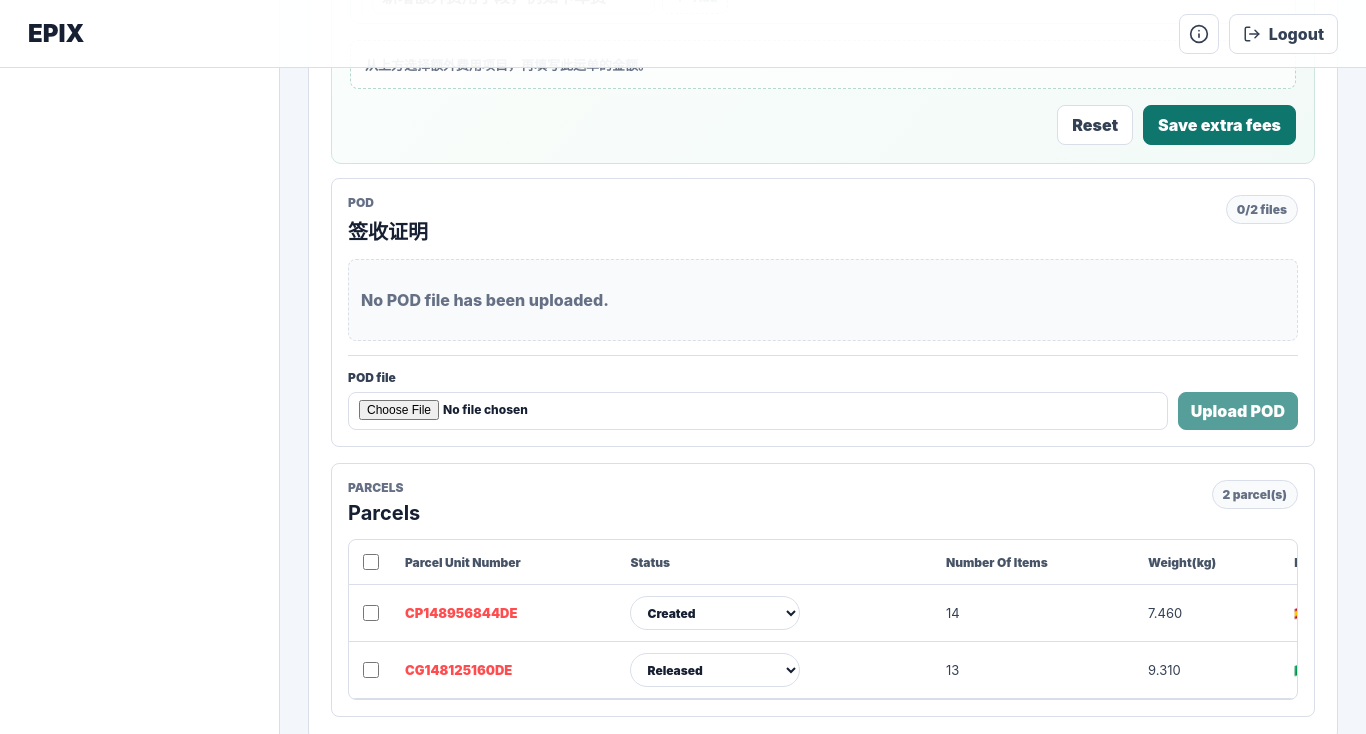
Scenario: WaybillDetailPage › lets admins bulk update selected parcels
(page scrolled)
Click the checkbox named "Select parcel CP148956844DE" at (371, 613), box [363,605,379,621]
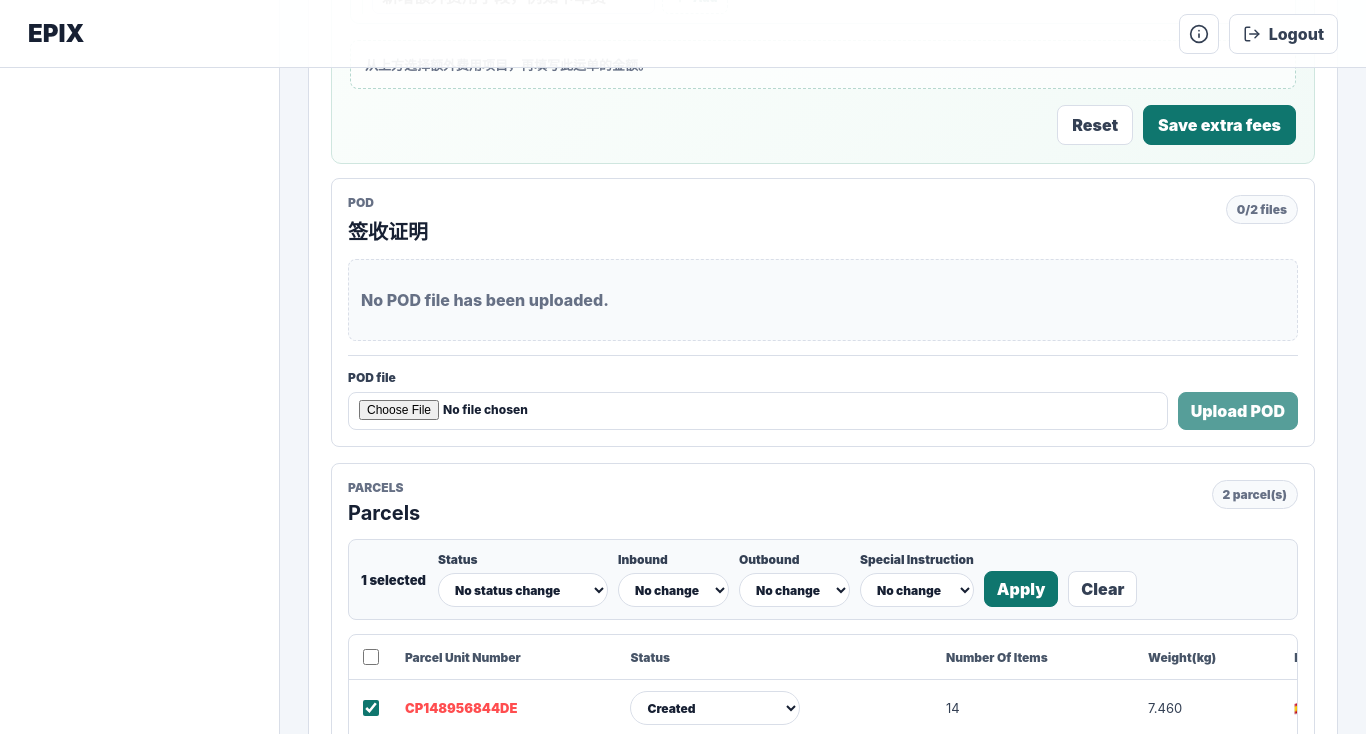
Select "Inbound" in the dropdown named "Bulk parcel status" at (523, 590), box [438,573,608,607]
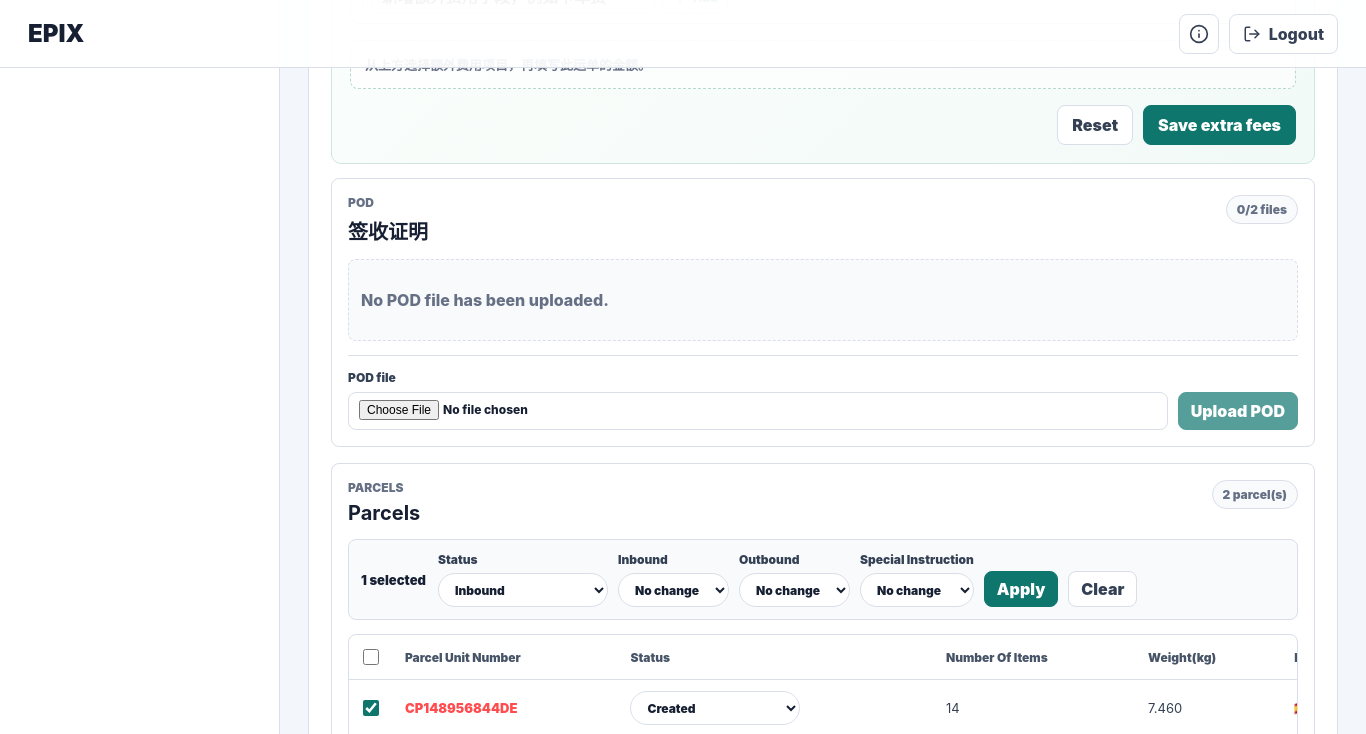
Select "Check" in the dropdown named "Bulk parcel Inbound" at (673, 590), box [618,573,729,607]
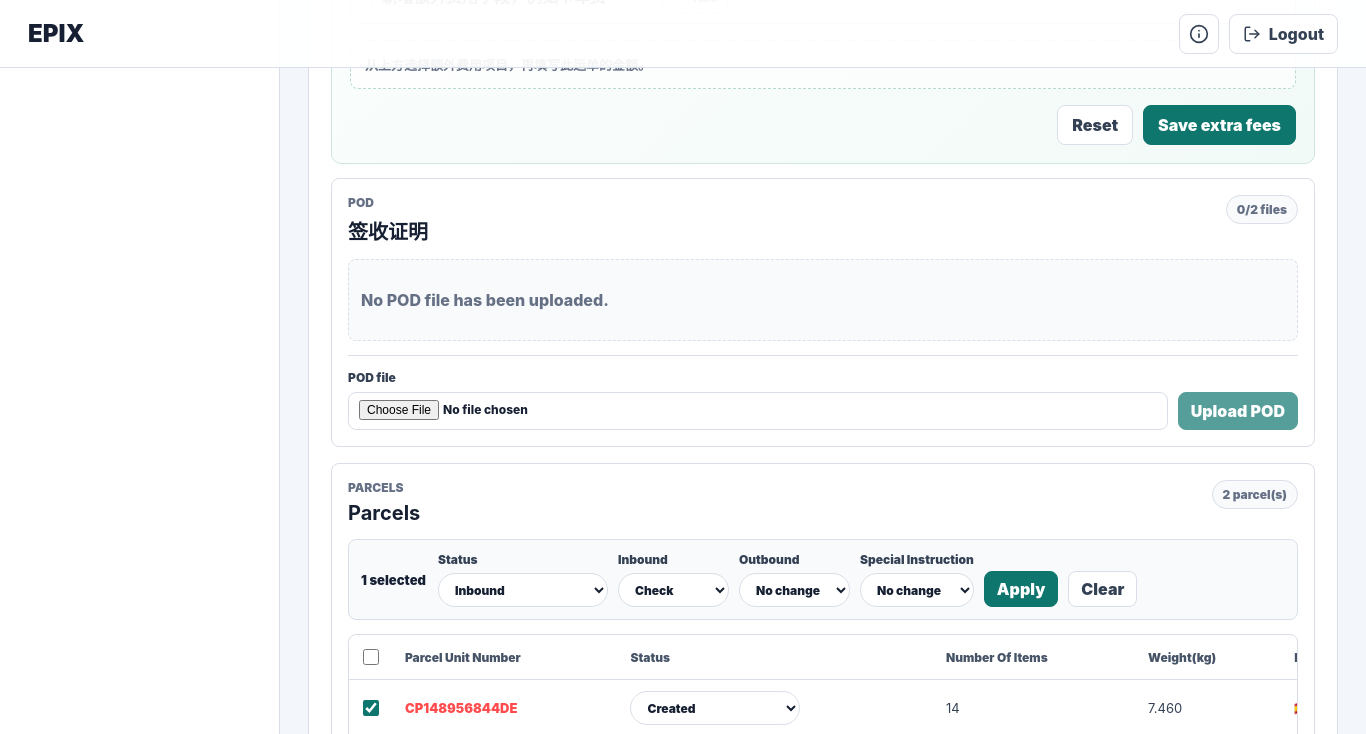
Select "Cross" in the dropdown named "Bulk parcel Outbound" at (794, 590), box [739,573,850,607]
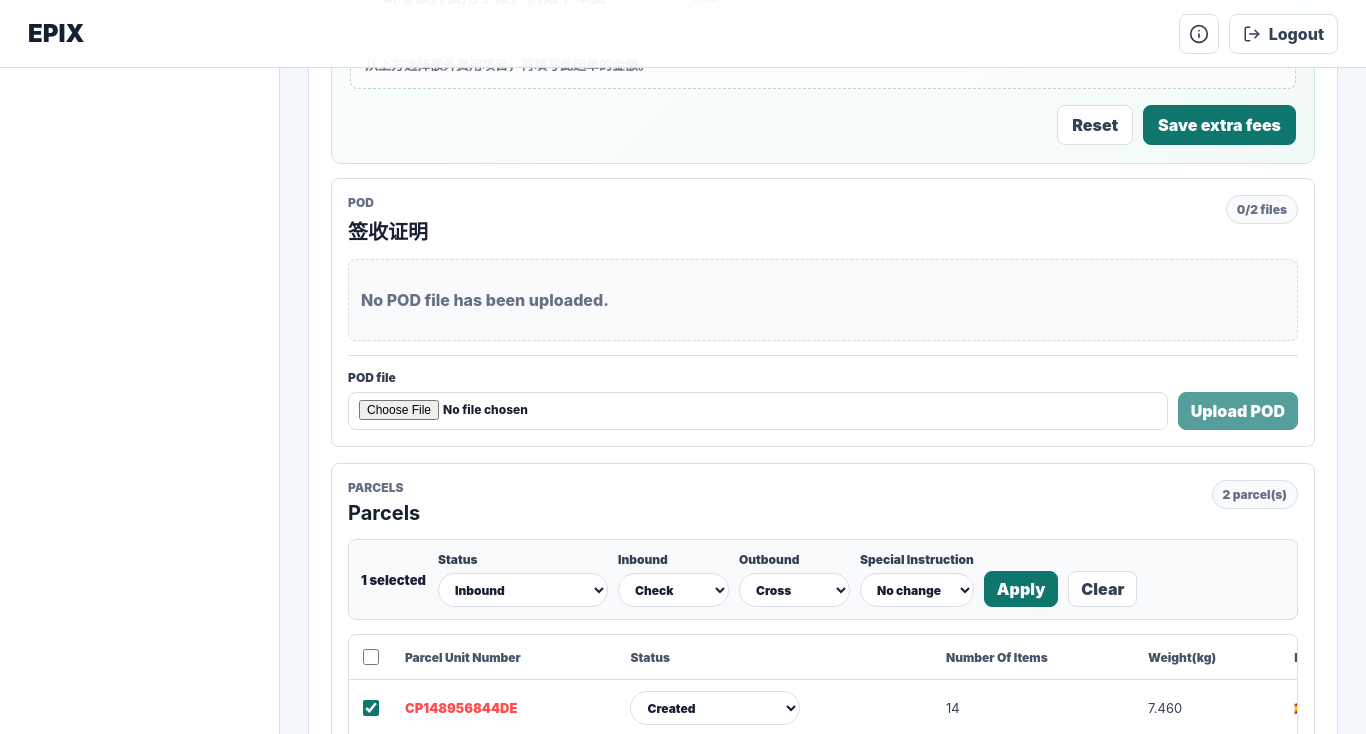
Select "Check" in the dropdown named "Bulk parcel Special Instruction" at (917, 590), box [860,573,974,607]
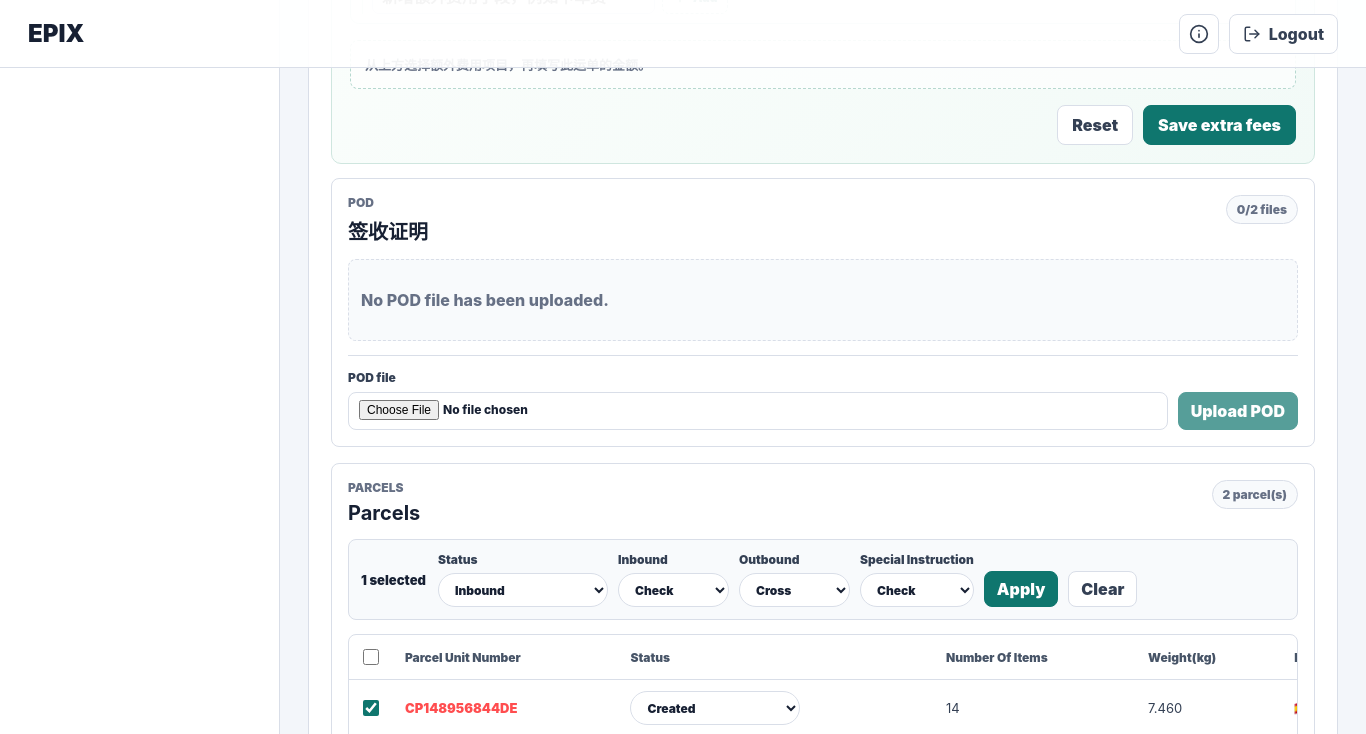
Click the button "Apply" at (1021, 589), box [984,571,1058,607]
(page scrolled)
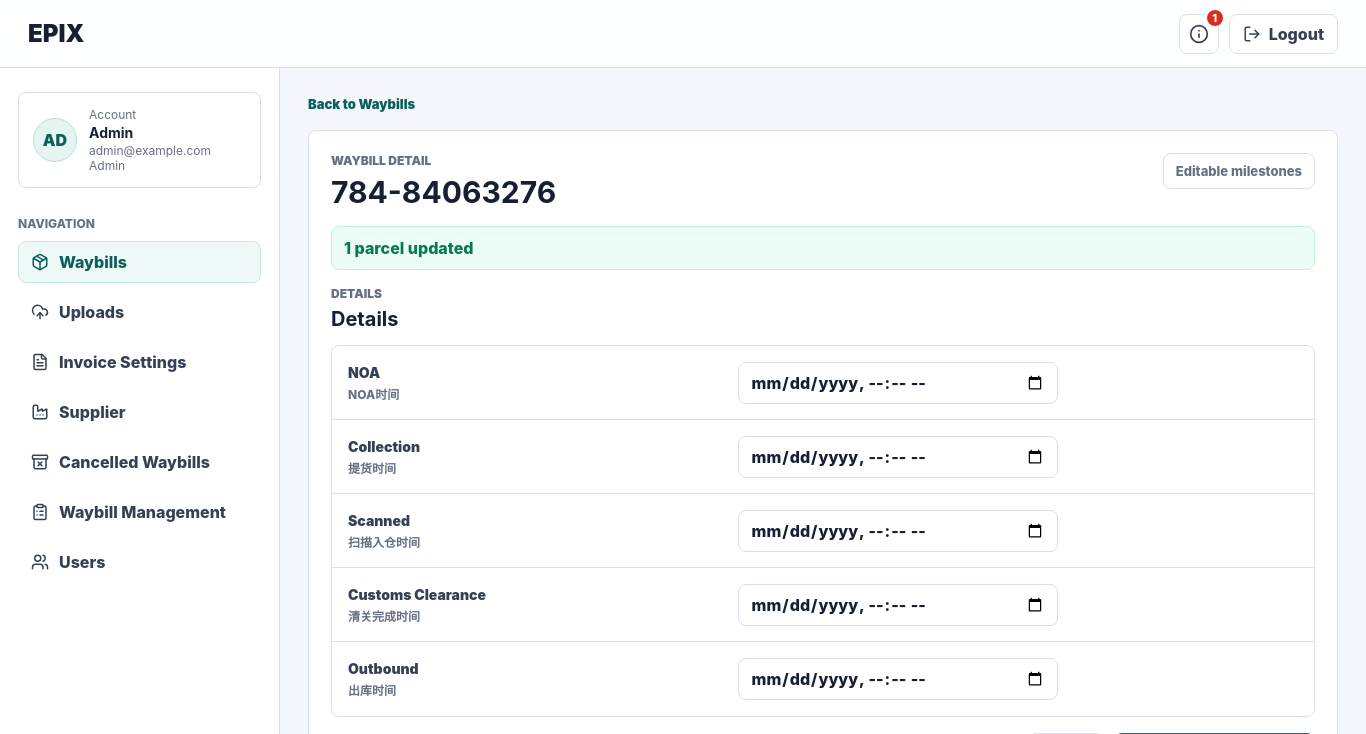
Now the text "1 parcel updated" is shown, box [331,226,1315,270]
